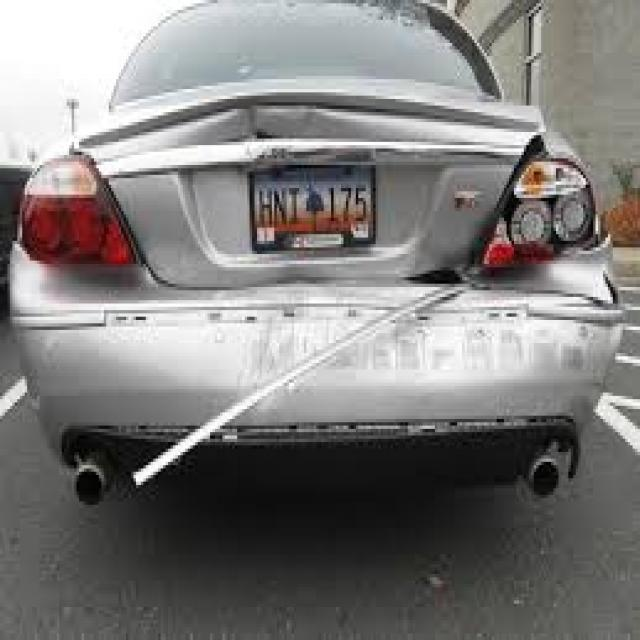damaged-trunk: (72, 81, 546, 282)
